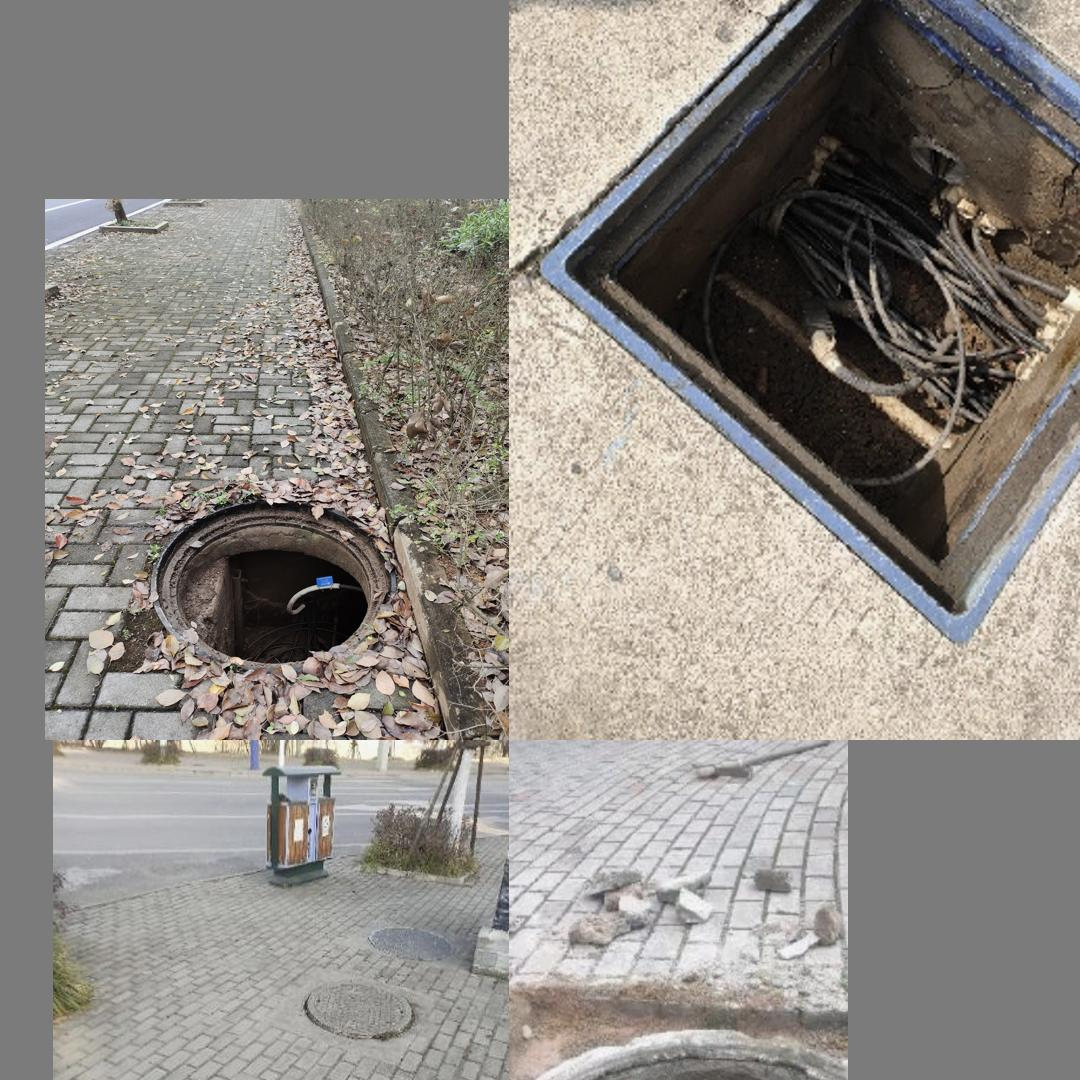good: (304, 977, 413, 1042), (369, 924, 458, 964)
lose: (536, 0, 1080, 645), (156, 495, 390, 669), (509, 1038, 847, 1080)
